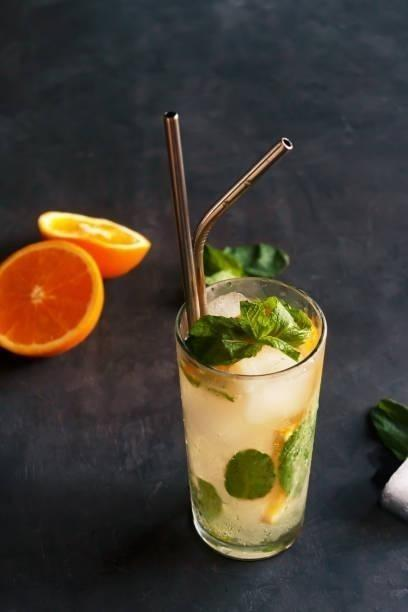glass-normal: (171, 274, 329, 561)
